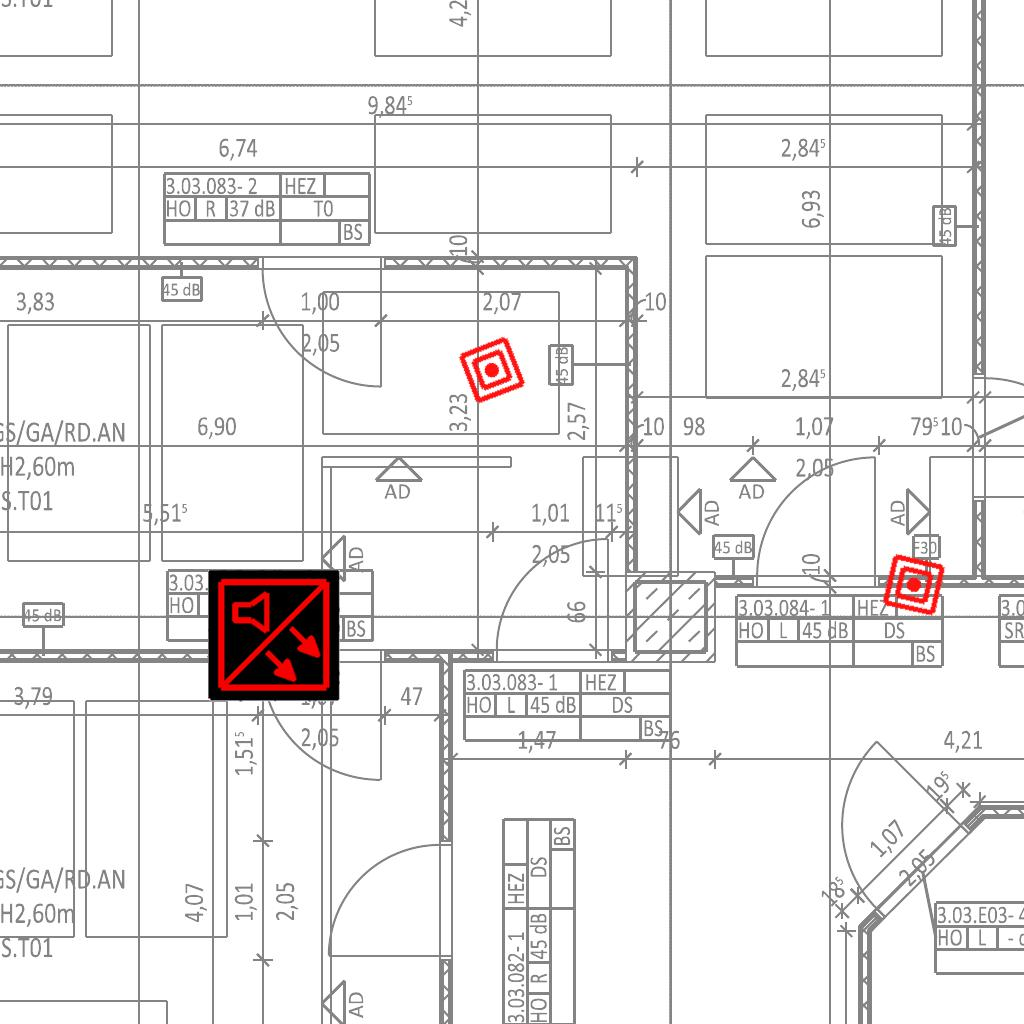NAM-Nichtautomatischer_Melder: (455, 333, 529, 407), (880, 551, 948, 619)
OKW_Multisensormelder_(Kombination_optischer_Rauch-Kahlenmonoxid_Waerme-Melder): (208, 570, 340, 702)
